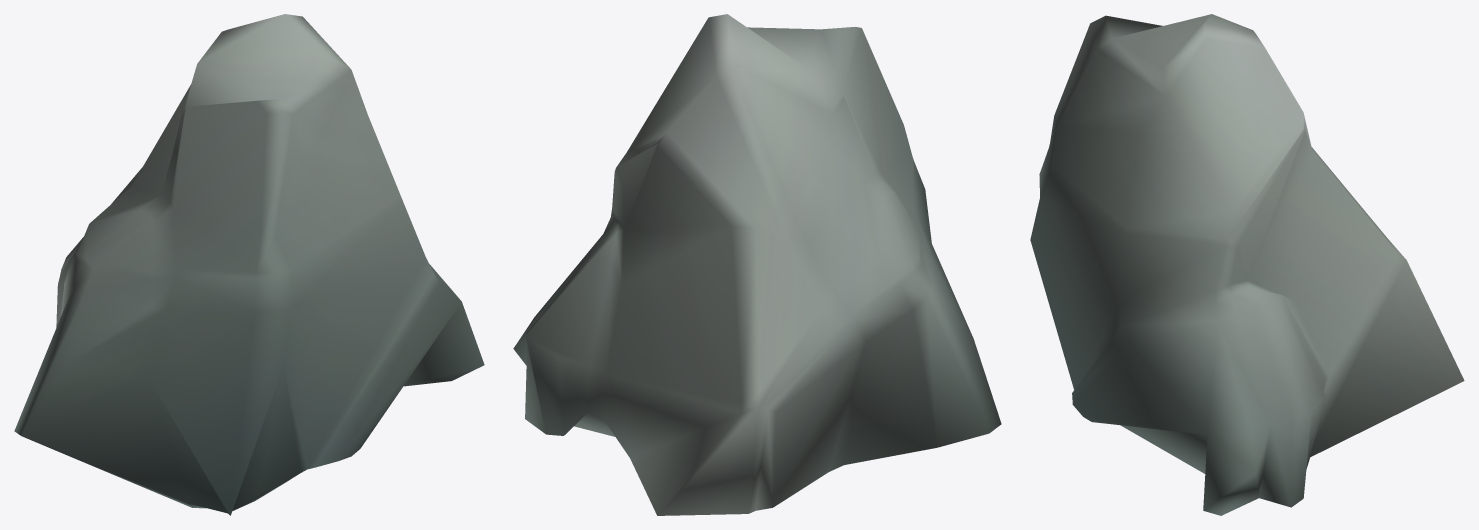
The model's file is Rock05.fbx.
The picture shows the model from 3 angles, left to right: view 1: azimuth 30°, elevation 25°; view 2: azimuth 150°, elevation 25°; view 3: azimuth 270°, elevation 25°; orthographic projection.
Parts seen in each view (by area): view 1: Rock05; view 2: Rock05; view 3: Rock05.
Boxes of the visible parts, x1,y1,x2,y2 form: Rock05: [14, 14, 484, 515]; Rock05: [513, 14, 1001, 515]; Rock05: [1030, 14, 1464, 515].
Size of the model in its own units: 1059 by 942 by 865.
